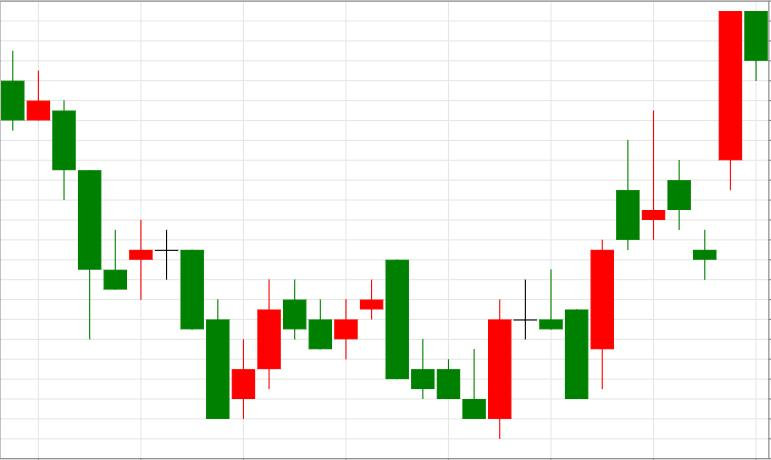bullish_engulfing_rise: (385, 259, 511, 440)
